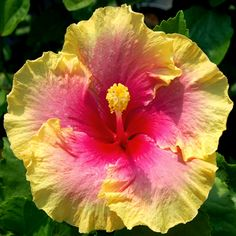Hibiscus: (2, 6, 231, 236)
